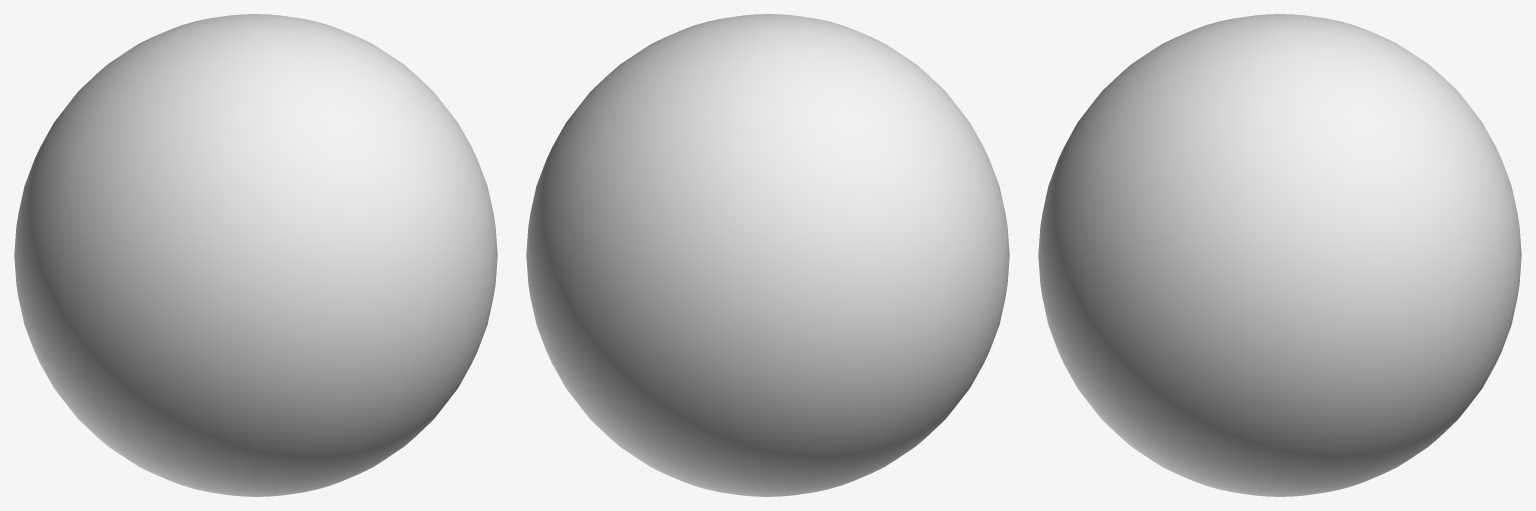
File: modeP4.glb
3 renders of one model, left to right at view 1: azimuth 30°, elevation 25°; view 2: azimuth 150°, elevation 25°; view 3: azimuth 270°, elevation 25°, orthographic.
Visible parts, largest first — view 1: frame000; view 2: frame000; view 3: frame000.
Part boxes in pixels (bbox=[...]): frame000: bbox=[14, 14, 497, 496]; frame000: bbox=[526, 14, 1009, 496]; frame000: bbox=[1038, 14, 1521, 496].
Size of what is drawn, in the model's own units: 0.1201 by 0.1199 by 0.1199.
Materials: 1 (1 with a texture image).
